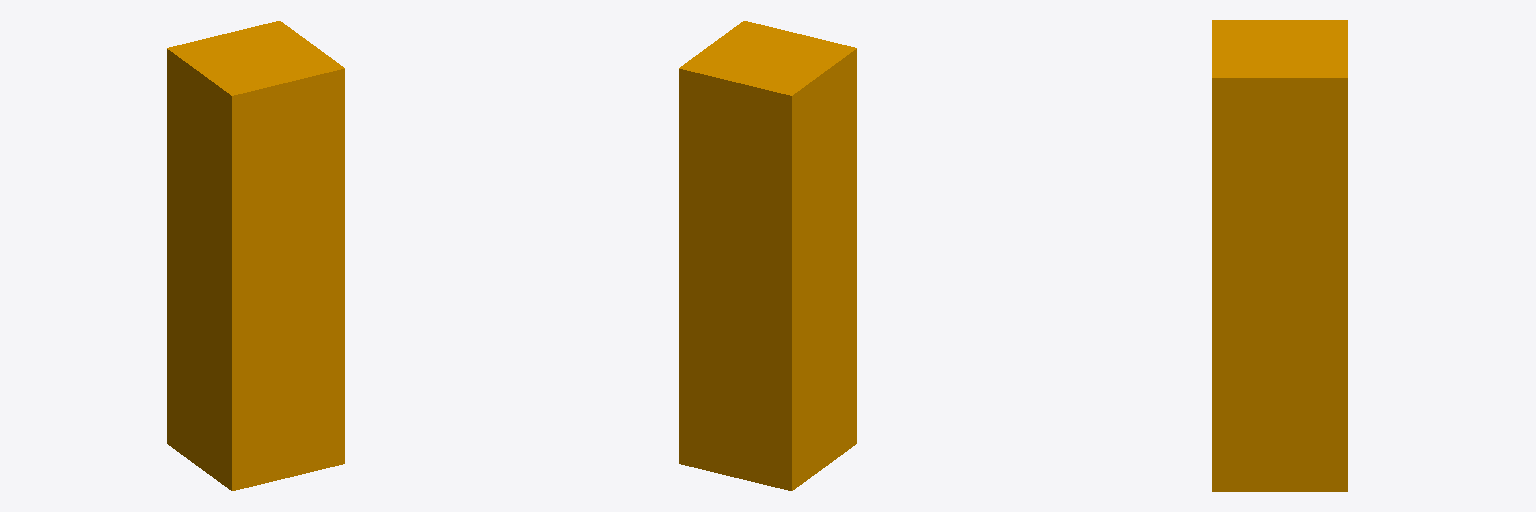
robot.urdf — block_object:
<?xml version="1.0"?>

<robot name="block_object">

  <gazebo reference="block">
    <mu1>100000</mu1>
    <mu2>100000</mu2>
    <kp>10000000</kp>
    <kd>1</kd>
    <minDepth>0.001</minDepth>
  </gazebo>

  <link name="block">
    <collision>
      <geometry>
        <box size="0.03 0.03 0.1"/>
      </geometry>
    </collision>
    <visual>
      <geometry>
        <box size="0.03 0.03 0.1"/>
      </geometry>
    </visual>
    <inertial>
      <mass value="0.072"/>
      <inertia
        ixx="0.0000654" ixy="0.0" ixz="0.0"
        iyy="0.0000654" iyz="0.0"
        izz="0.0000108"/>
    </inertial>
  </link>

  <gazebo reference="block">
  <material>Gazebo/Blue</material>
  </gazebo>

</robot>

--- Render facts (derived) ---
Views: 3 orthographic renders of the robot side by side, from view 1: azimuth 30°, elevation 25°; view 2: azimuth 150°, elevation 25°; view 3: azimuth 270°, elevation 25°.
Robot: block_object — 1 links, 0 joints (none); root link block; default pose: every joint at zero.
Links seen in each view (by area): view 1: block; view 2: block; view 3: block.
Link boxes in pixels (left/top/right/bottom): block: left=167, top=21, right=344, bottom=490; block: left=679, top=21, right=856, bottom=490; block: left=1212, top=20, right=1347, bottom=491.
Size in the robot's own frame: 0.03 by 0.03 by 0.1 metres.
Geometry: primitives only (box / cylinder / sphere), no mesh files.